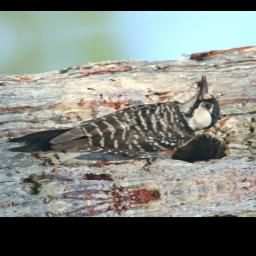Woodpecker: (0, 73, 230, 190)
